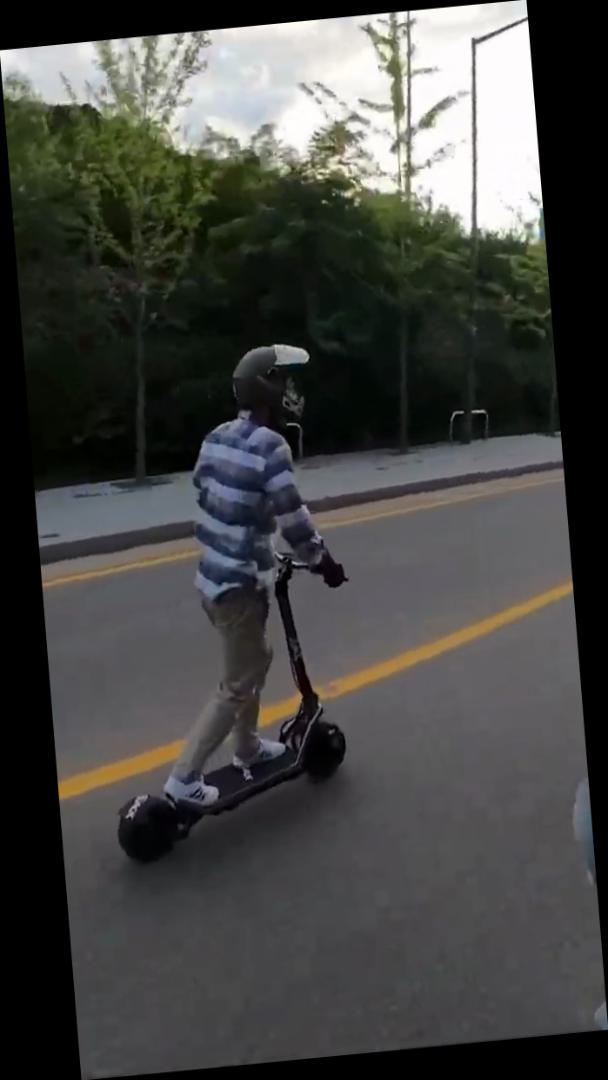helmet: (77, 335, 374, 868)
